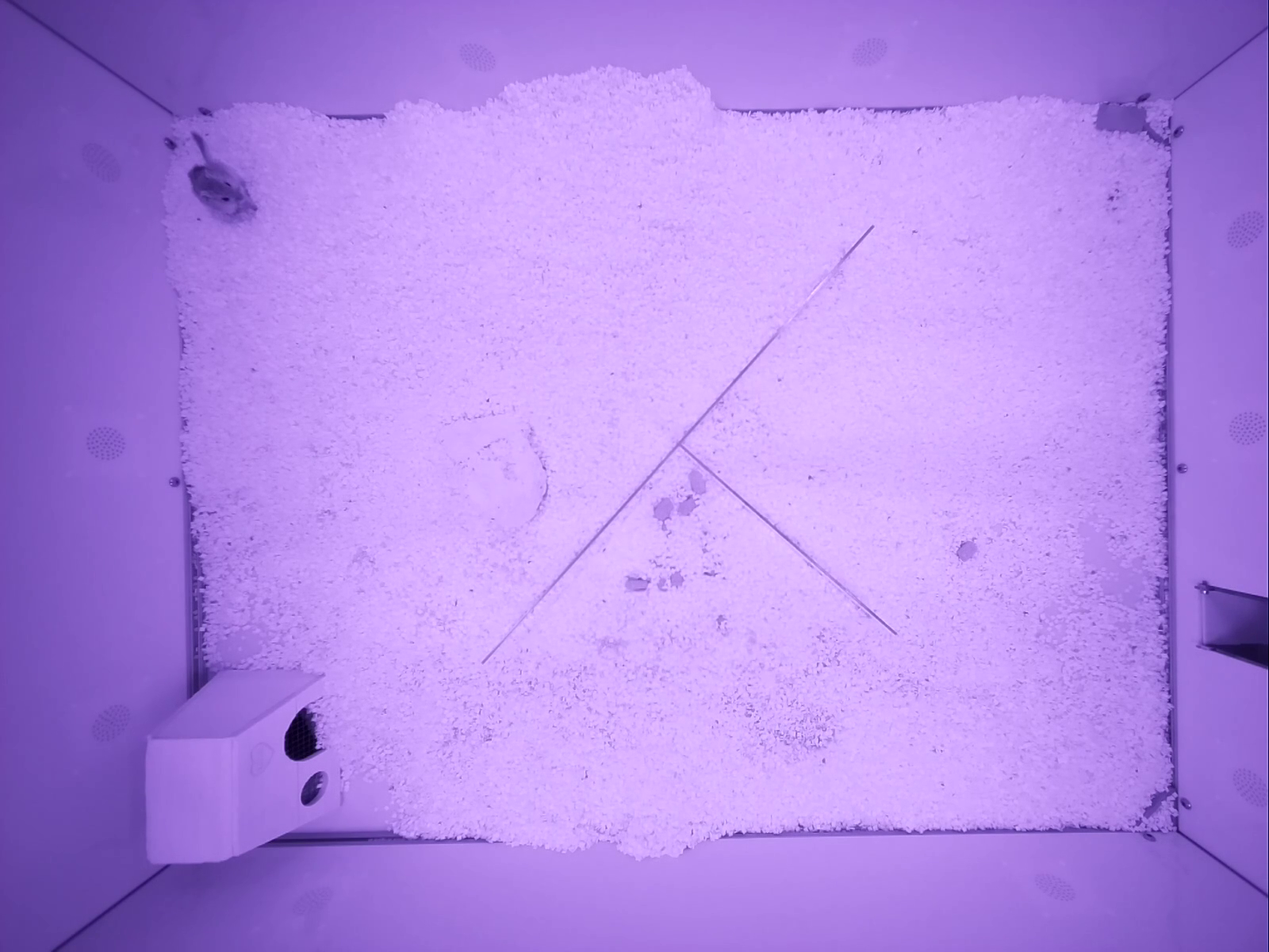adult_back: (189, 132, 256, 219)
